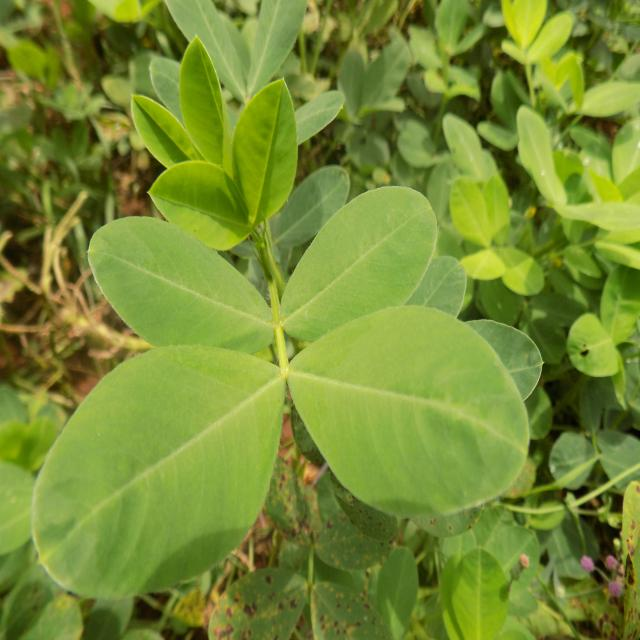Ground nut_healthy: (35, 354, 284, 590), (287, 315, 529, 519), (88, 205, 274, 358), (278, 178, 434, 342)
